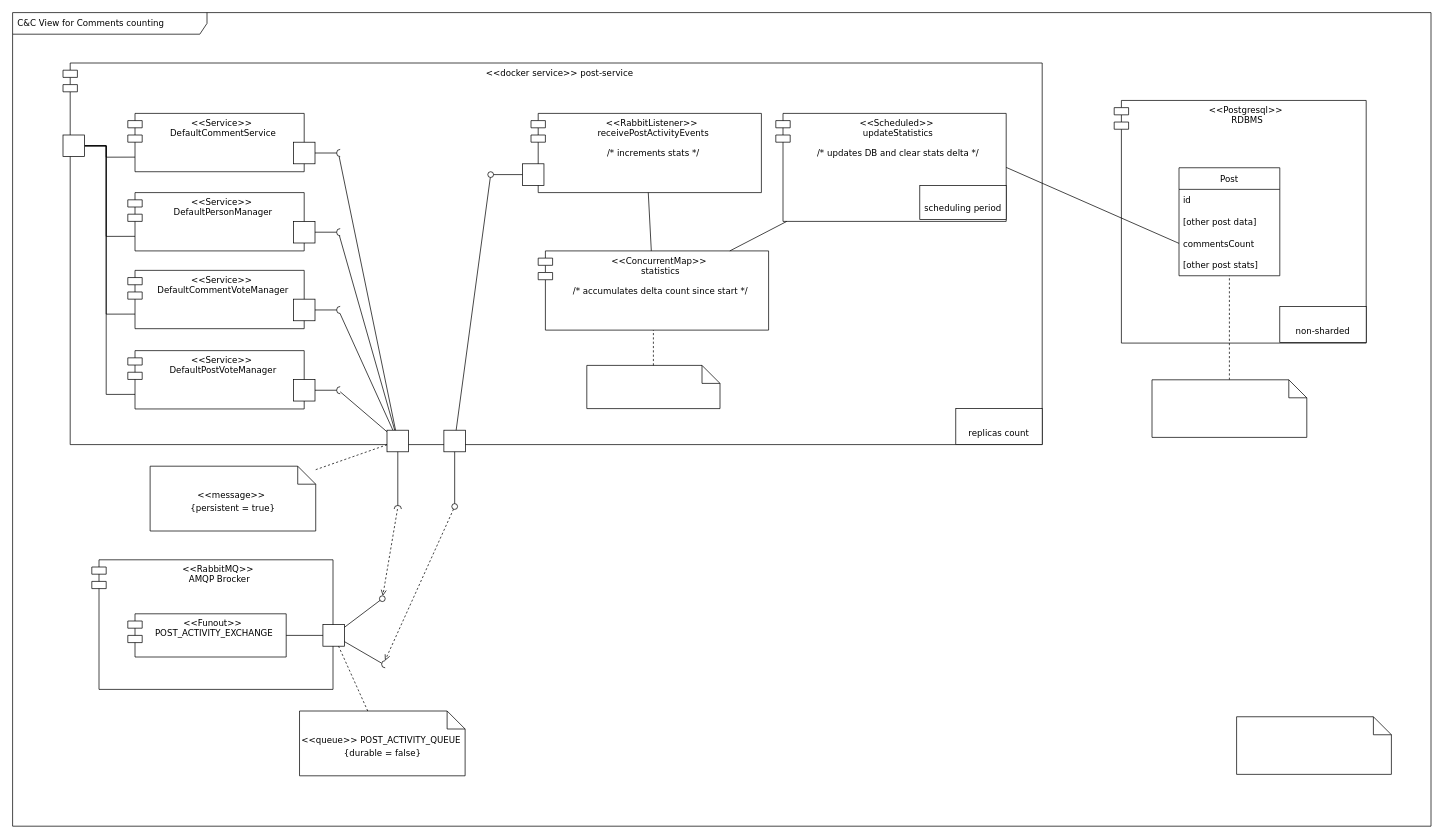
This 1444x839 diagram has some shape labels left out. Here are the shapes that lost their labels. From the top down, the centre of each, then its label:
At point (962, 202): "5 minutes".
At point (653, 387): "in-memory storage".
At point (998, 426): "1..n".
At point (1229, 408): "non-partitioned table".
At point (1313, 745): "Key: UML".
